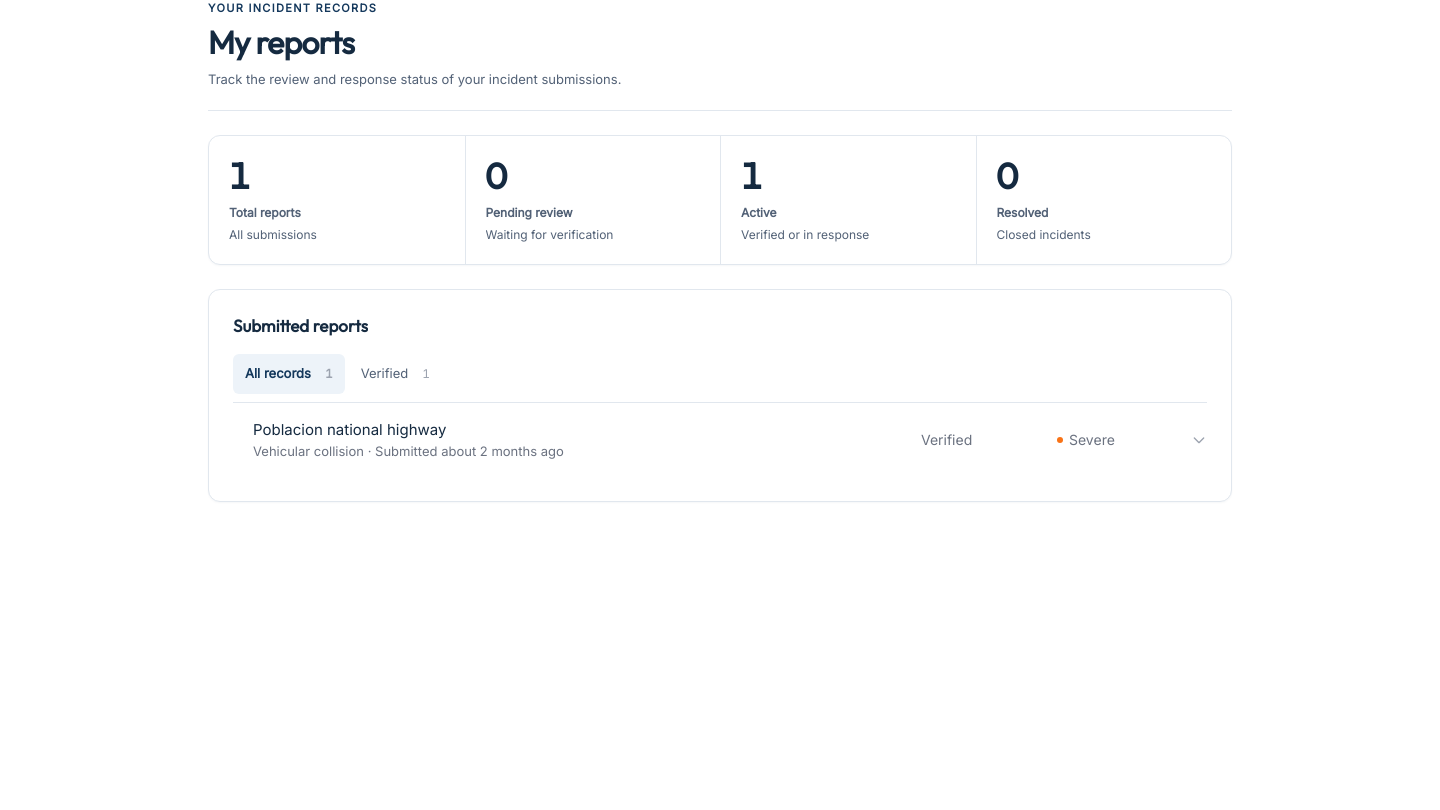
Test: MyReports Evidence Inspection and Modal Experience › 5. Non-owner / redacted evidence renders privacy-safe preview in stacked deck without leaking original URL
Click the heading "Poblacion national highway". click: [350, 429]
box: [253, 420, 446, 439]
(page scrolled)
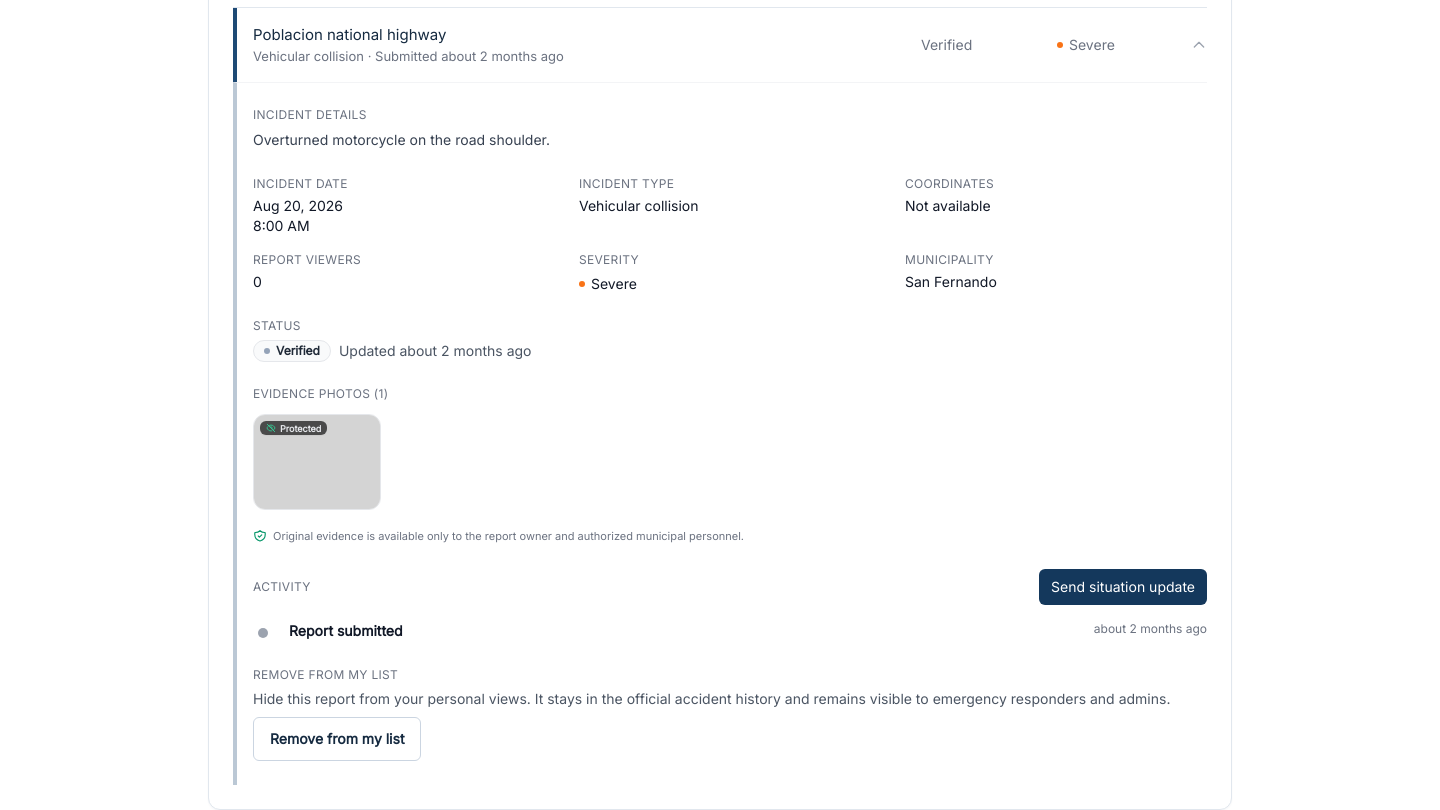
Expected: the text "Protected" is shown, [280, 424, 321, 432]
Click the button with aria-label "faces blurred for privacy". click: [317, 462]
box: [253, 414, 381, 510]
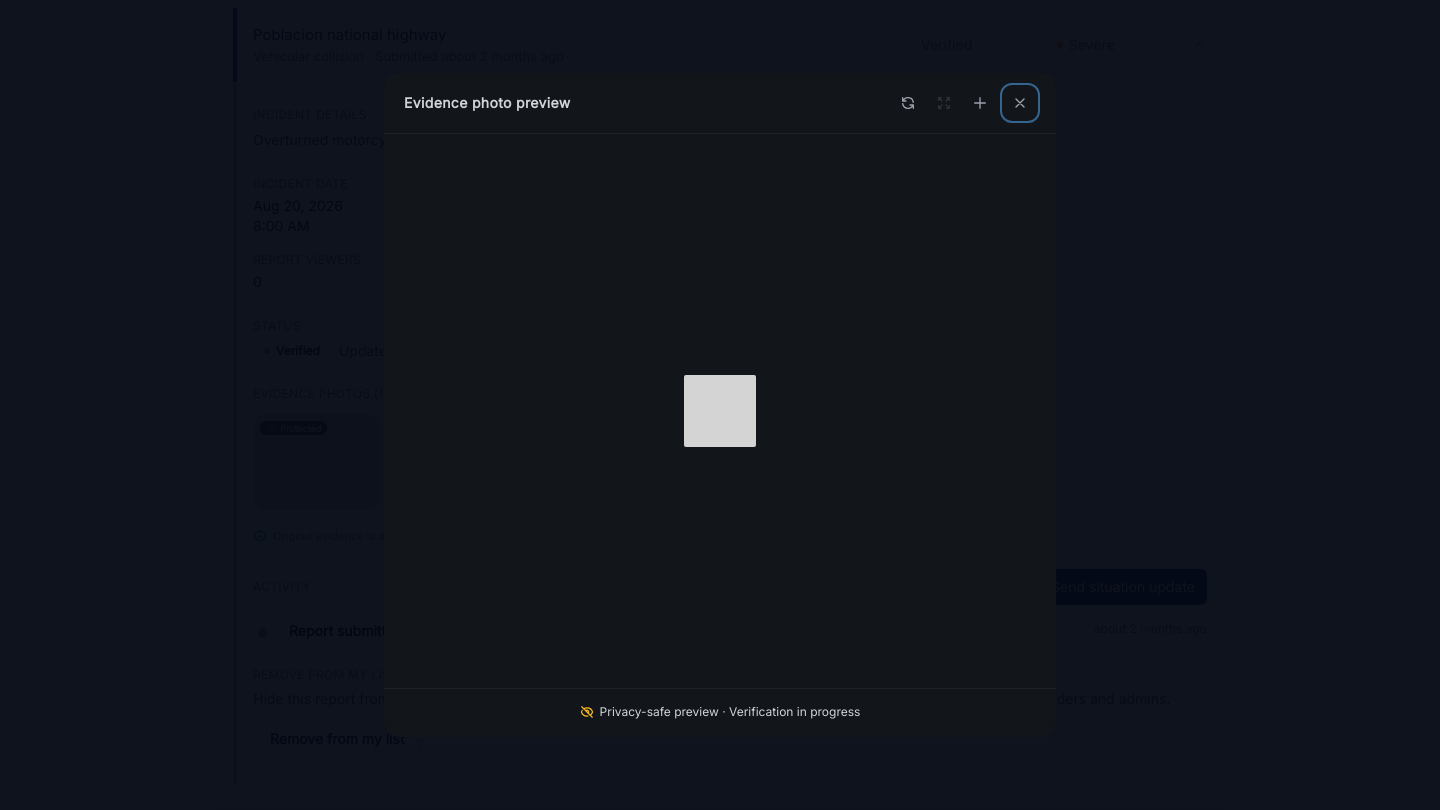
Expected: the dialog named "Enlarged evidence image viewer" is shown
Expected: the text "Privacy-safe preview · Verification in progress" is shown, [600, 704, 860, 720]
